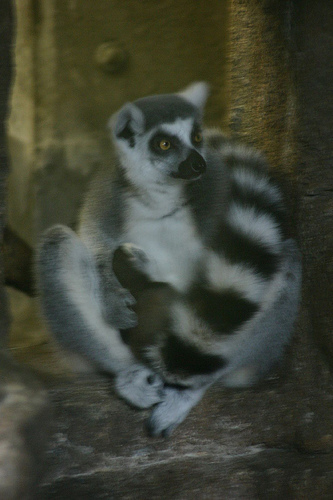cat: (31, 76, 307, 450)
